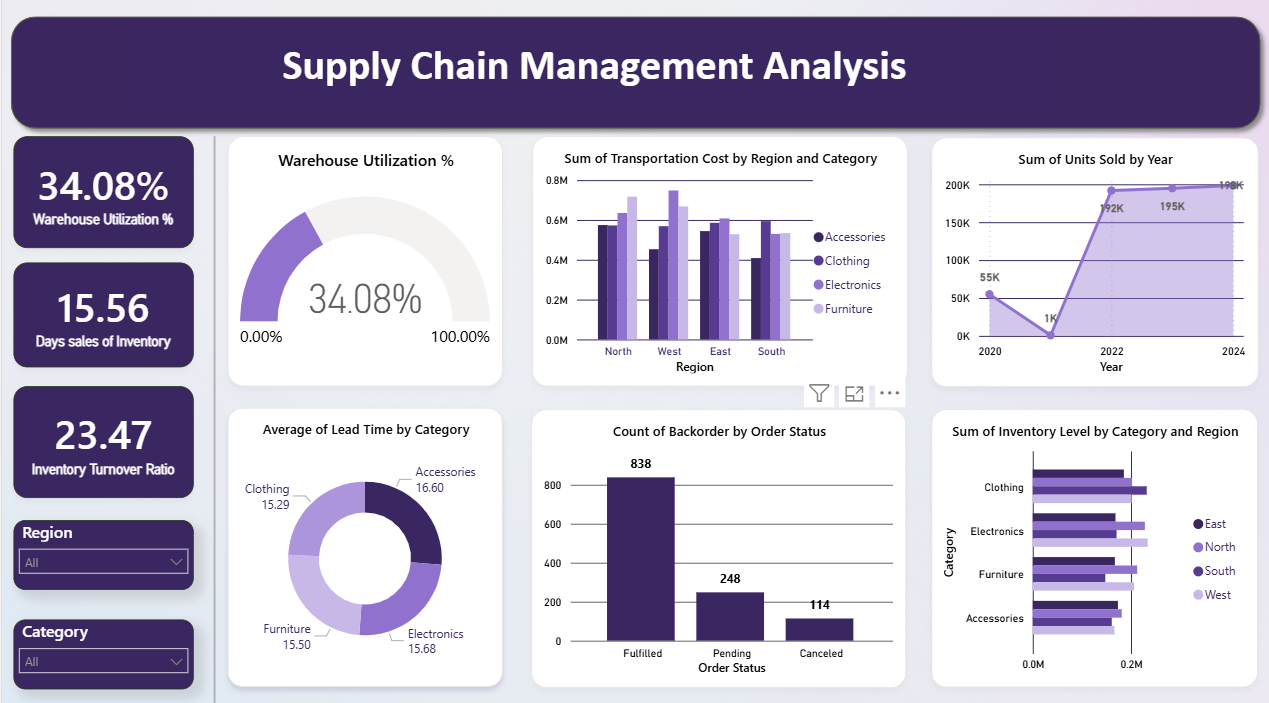

This screenshot's page, from the dashboard's own definition file:
{"tool":"powerbi","page":{"name":"Supply Chain Performance Summary","canvas":[1280,720],"ordinal":0},"visuals":[{"type":"shape","box":[0,11.6,1279.3,131.3],"z":0},{"type":"textbox","box":[133.7,38.2,928.7,74.9],"z":1000},{"type":"shape","box":[207.2,141.1,14.7,578.9],"z":2000},{"type":"card","fields":{"Values":["Inventory and Supply Chain Dataset.Warehouse Utilization"]},"box":[11.8,141.1,182.2,113.1],"z":3000},{"type":"card","fields":{"Values":["Inventory and Supply Chain Dataset.Days sales of Inventory"]},"box":[11.8,268.9,182.2,105.8],"z":4000},{"type":"card","fields":{"Values":["Inventory and Supply Chain Dataset.Inventory Turnover Ratio"]},"box":[11.8,393.8,182.2,113.1],"z":5000},{"type":"slicer","fields":{"Values":["Inventory and Supply Chain Dataset.Region"]},"box":[11.8,529,182.2,70.5],"z":6000},{"type":"slicer","fields":{"Values":["Inventory and Supply Chain Dataset.Category"]},"box":[11.8,628.9,182.2,70.5],"z":7000},{"type":"clusteredColumnChart","fields":{"Y":["Sum(Inventory and Supply Chain Dataset.Transportation Cost)"],"Category":["Inventory and Supply Chain Dataset.Region"],"Series":["Inventory and Supply Chain Dataset.Category"]},"box":[534.9,141.1,379.1,252.7],"z":8000},{"type":"lineChart","fields":{"Y":["Sum(Inventory and Supply Chain Dataset.Units Sold)"],"Category":["Inventory and Supply Chain Dataset.Date.Variation.Date Hierarchy.Year"]},"box":[938.6,142.9,330,251.4],"z":9000},{"type":"donutChart","fields":{"Y":["Avg(Inventory and Supply Chain Dataset.Lead Time)"],"Category":["Inventory and Supply Chain Dataset.Category"]},"box":[227.8,415.7,278,281.9],"z":10000},{"type":"columnChart","fields":{"Y":["CountNonNull(Inventory and Supply Chain Dataset.Backorder)"],"Category":["Inventory and Supply Chain Dataset.Order Status"]},"box":[534.3,417.1,378.6,281.4],"z":11000},{"type":"clusteredBarChart","fields":{"Y":["Sum(Inventory and Supply Chain Dataset.Inventory Level)"],"Category":["Inventory and Supply Chain Dataset.Category"],"Series":["Inventory and Supply Chain Dataset.Region"]},"box":[938.3,417,329.5,280.6],"z":12000},{"type":"gauge","fields":{"Y":["Inventory and Supply Chain Dataset.Warehouse Utilization"]},"box":[227.8,141.6,278,252.3],"z":13000}]}

Visuals, with their boxes in screenshot pixels (x1, y1, x2, y2), scaled from the page's 1280x720 canvas onto the 1269x703 screenshot:
shape: locate(0, 11, 1268, 140)
textbox: locate(133, 37, 1053, 110)
shape: locate(205, 138, 220, 702)
card - Inventory and Supply Chain Dataset.Warehouse Utilization: locate(12, 138, 192, 248)
card - Inventory and Supply Chain Dataset.Days sales of Inventory: locate(12, 263, 192, 366)
card - Inventory and Supply Chain Dataset.Inventory Turnover Ratio: locate(12, 385, 192, 495)
slicer - Inventory and Supply Chain Dataset.Region: locate(12, 517, 192, 585)
slicer - Inventory and Supply Chain Dataset.Category: locate(12, 614, 192, 683)
clusteredColumnChart - Sum(Inventory and Supply Chain Dataset.Transportation Cost) x Inventory and Supply Chain Dataset.Region: locate(530, 138, 906, 385)
lineChart - Sum(Inventory and Supply Chain Dataset.Units Sold) x Inventory and Supply Chain Dataset.Date.Variation.Date Hierarchy.Year: locate(931, 140, 1258, 385)
donutChart - Avg(Inventory and Supply Chain Dataset.Lead Time) x Inventory and Supply Chain Dataset.Category: locate(226, 406, 501, 681)
columnChart - CountNonNull(Inventory and Supply Chain Dataset.Backorder) x Inventory and Supply Chain Dataset.Order Status: locate(530, 407, 905, 682)
clusteredBarChart - Sum(Inventory and Supply Chain Dataset.Inventory Level) x Inventory and Supply Chain Dataset.Category: locate(930, 407, 1257, 681)
gauge - Inventory and Supply Chain Dataset.Warehouse Utilization: locate(226, 138, 501, 385)
